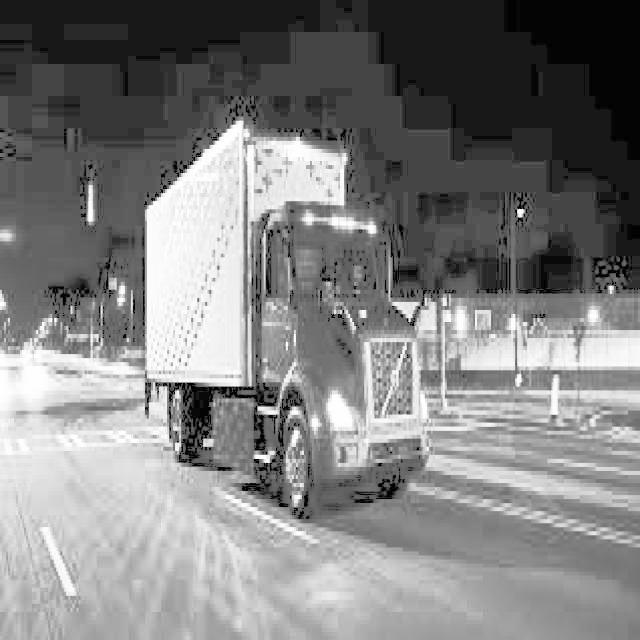Truck: (143, 113, 433, 520)
